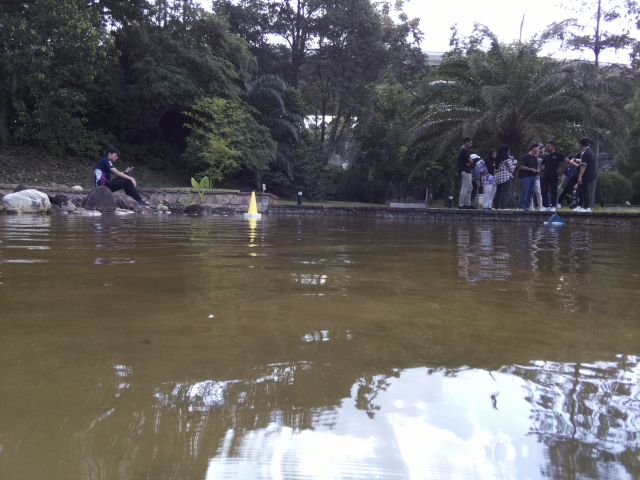checkpoint: (243, 190, 262, 220)
